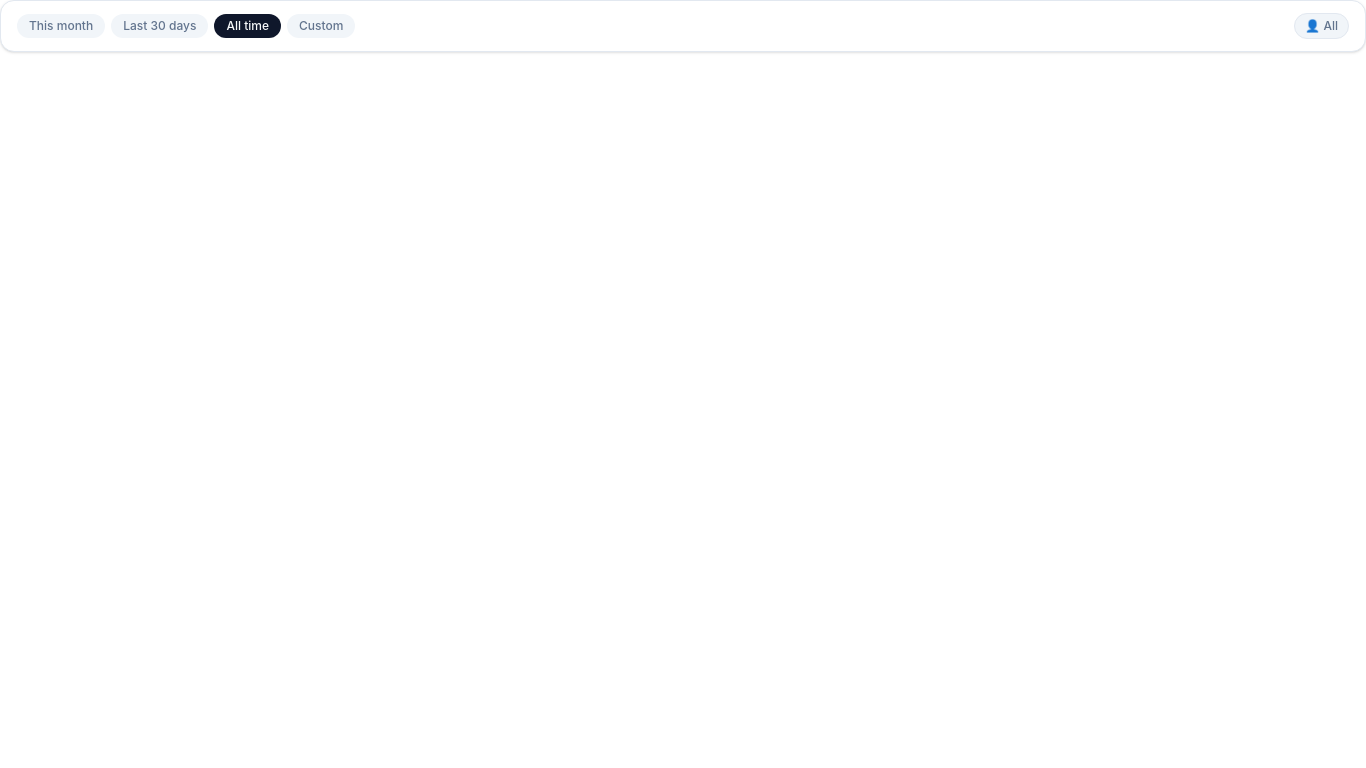
Scenario: DashboardControls — member scope picker › omits the You row when the user holds no member slot
Click the button with aria-label "Whose spending" at (1322, 26), box [1294,13,1349,39]
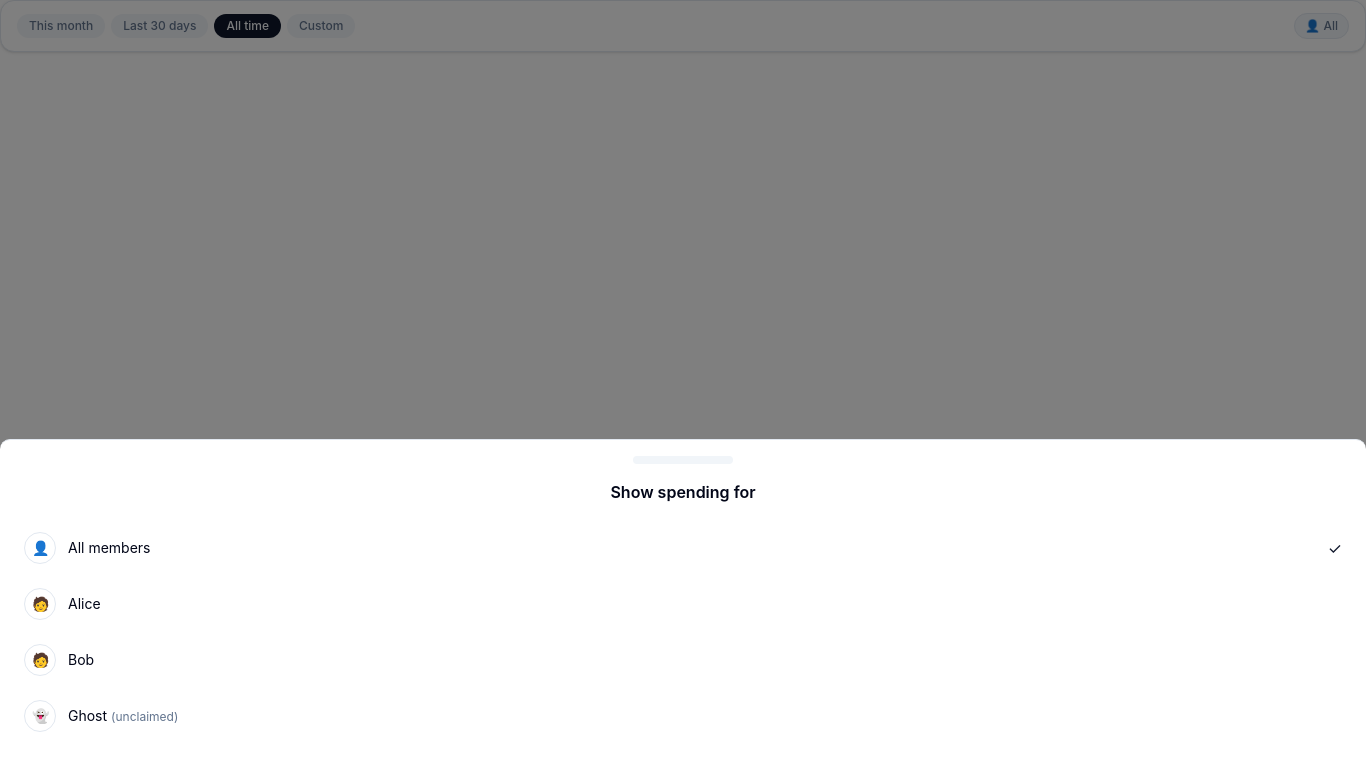
Now the button "🧑 Alice" is shown, box [16,576,1350,632]
